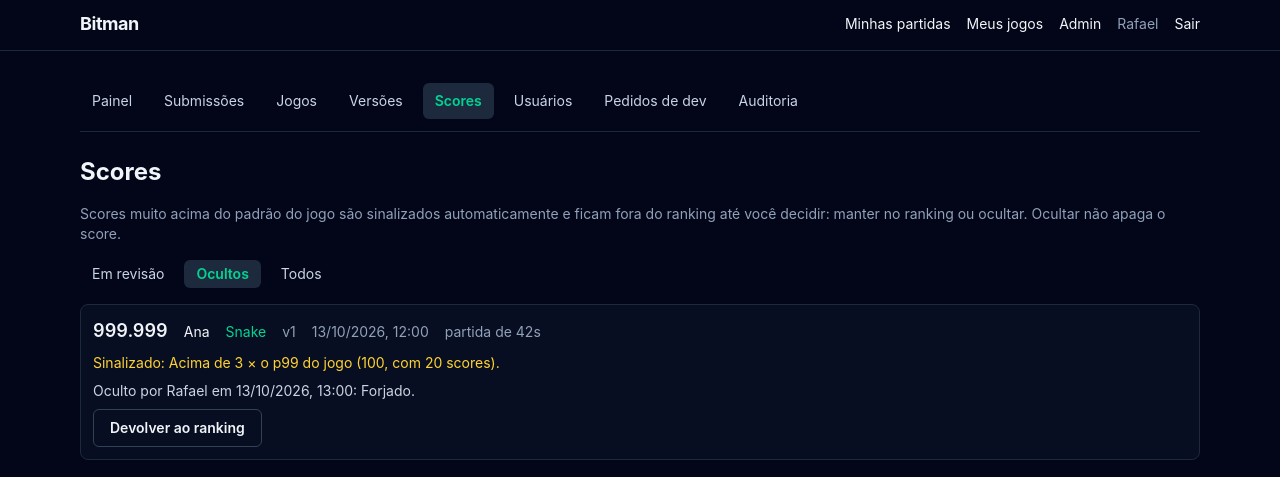
Test case: moderação de scores (S2) › na aba Ocultos, mostra quem ocultou e por quê, e devolve ao ranking
The image size is (1280, 477).
Click the button "Devolver ao ranking" at x=177, y=428, box [93,409,262,447]
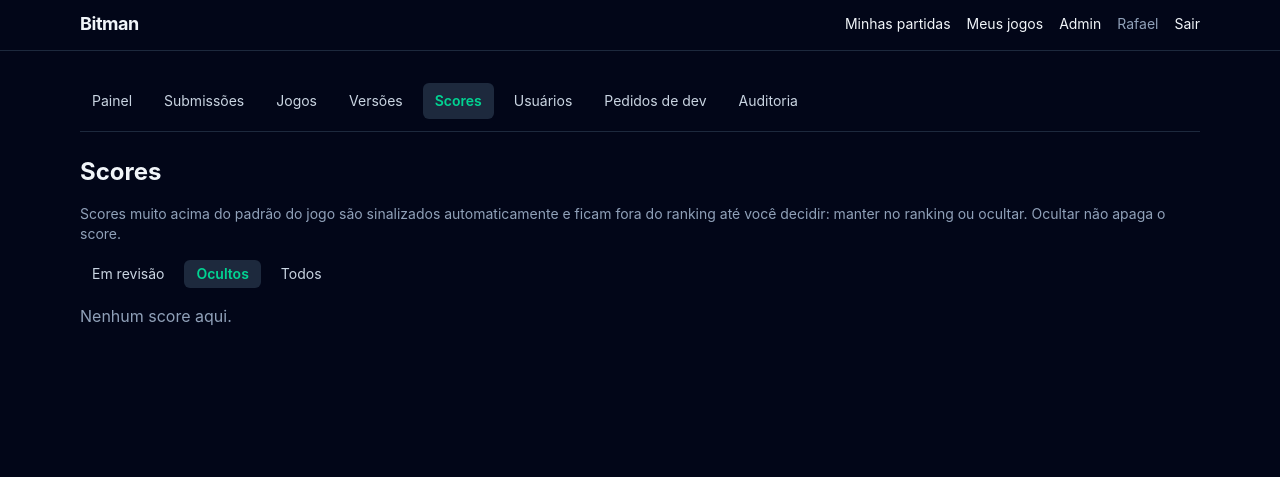
Check: the text "Nenhum score aqui." is shown, box [80,306,232,326]
